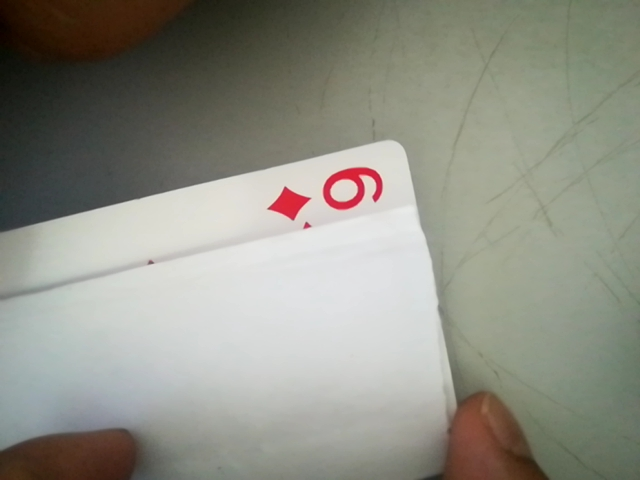fk 6: (266, 157, 398, 225)
